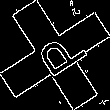P_SW: (24, 26, 86, 84)
